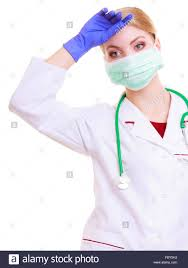masked: (95, 8, 163, 90)
